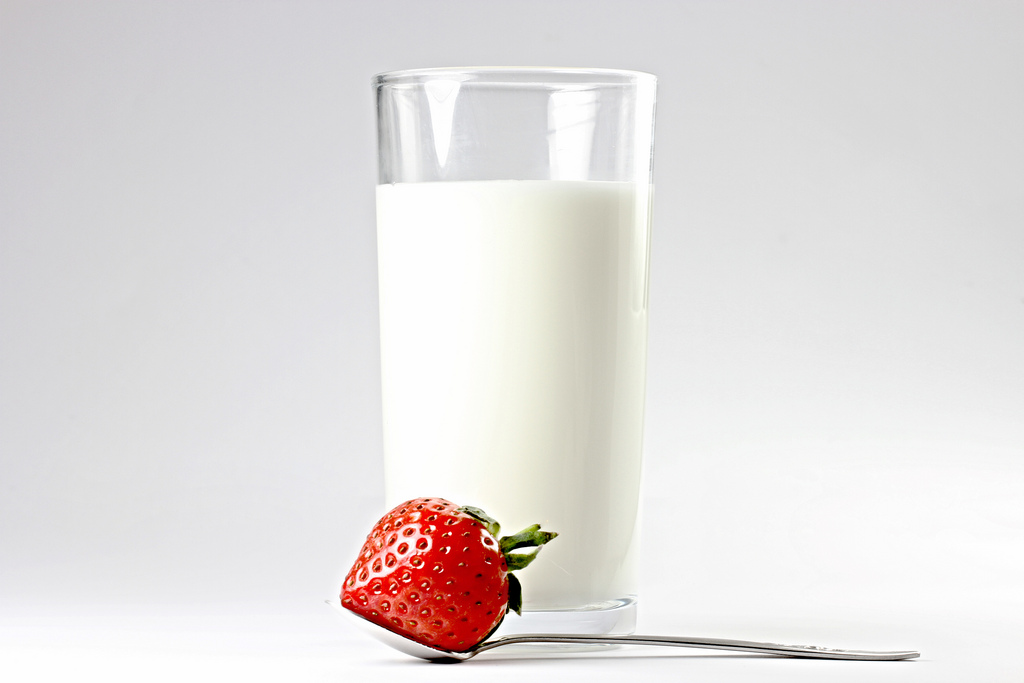glass of milk: (356, 68, 653, 496)
